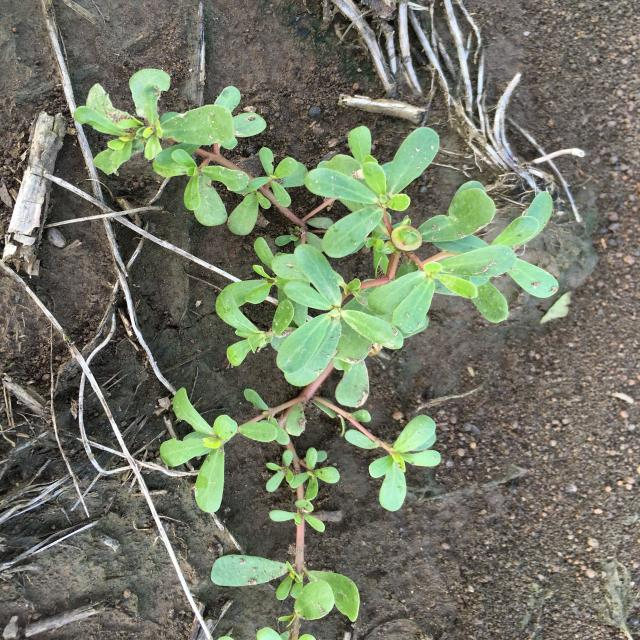Purslane: (73, 68, 558, 640)
